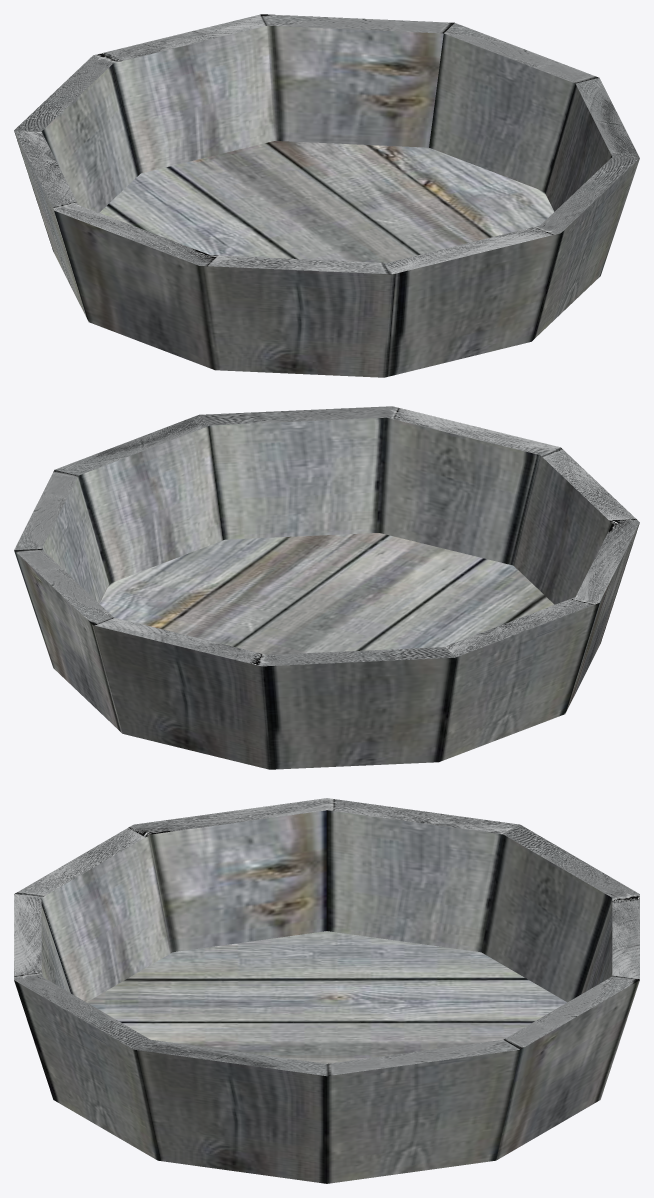
File: Prop_SM_Basin.fbx
The picture shows the model from 3 angles, top to bottom: view 1: azimuth 30°, elevation 25°; view 2: azimuth 150°, elevation 25°; view 3: azimuth 270°, elevation 25°; orthographic projection. The views are drawn at different scales.
Visible parts, largest first — view 1: Basin; view 2: Basin; view 3: Basin.
Boxes of the visible parts, bbox=[...] form: Basin: bbox=[14, 14, 639, 377]; Basin: bbox=[14, 406, 639, 769]; Basin: bbox=[14, 798, 639, 1183].
Size of the model in its own units: 0.8898 by 0.1867 by 0.8462.
